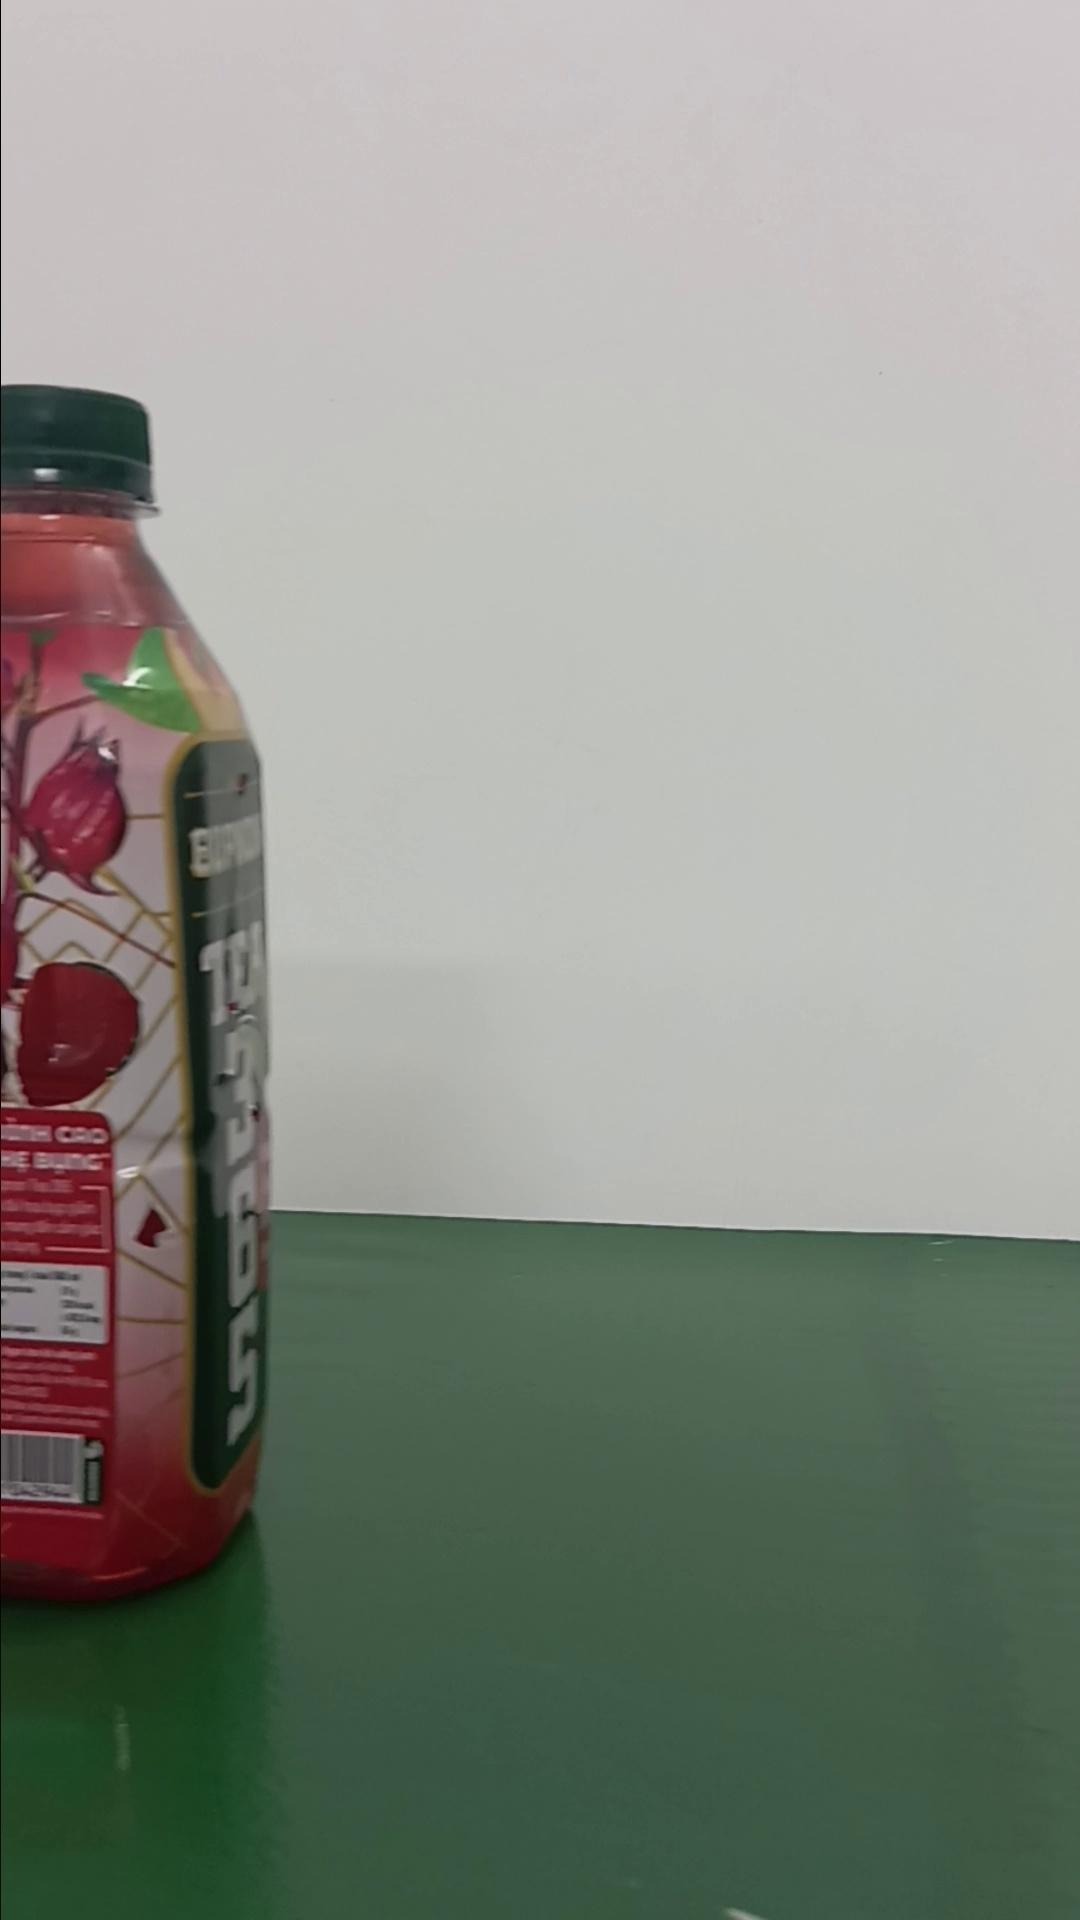loi rach va lap chai: (3, 376, 282, 1613)
